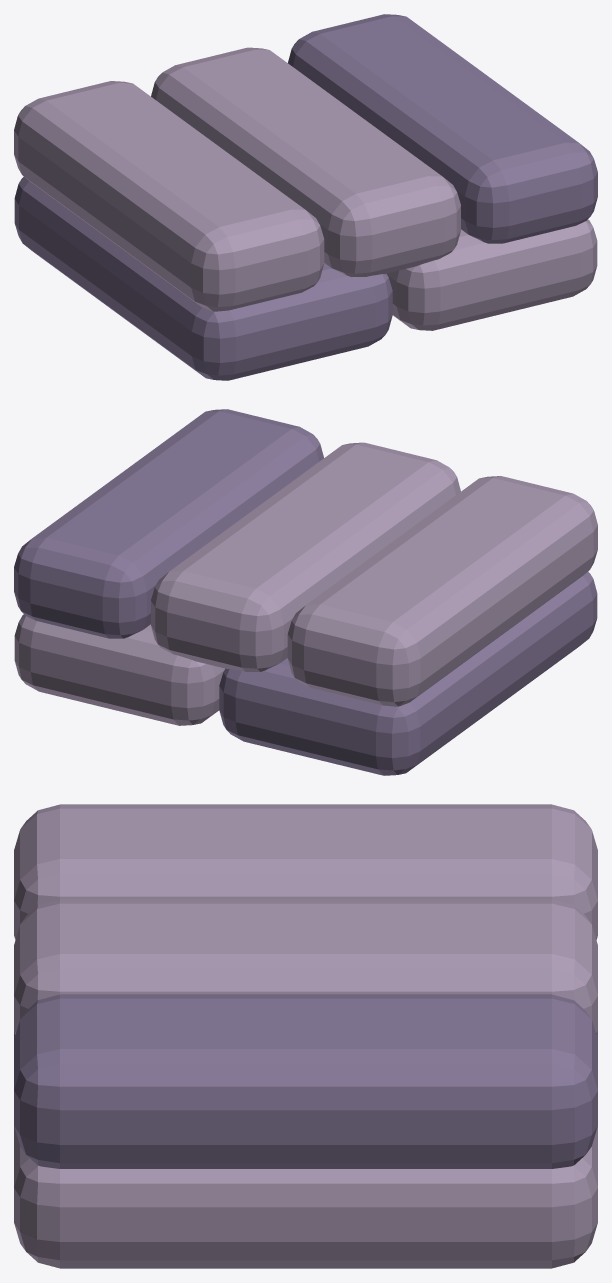
File: inferno_wall.glb
3 renders of one model, top to bottom at view 1: azimuth 30°, elevation 25°; view 2: azimuth 150°, elevation 25°; view 3: azimuth 270°, elevation 25°, orthographic. The views are drawn at different scales.
Visible parts, largest first — view 1: Batched V2 inferno stone_light, Batched V2 inferno stone; view 2: Batched V2 inferno stone_light, Batched V2 inferno stone; view 3: Batched V2 inferno stone_light, Batched V2 inferno stone.
Boxes of the visible parts, x1,y1,x2,y2 form: Batched V2 inferno stone_light: [14, 47, 597, 330]; Batched V2 inferno stone: [14, 14, 597, 380]; Batched V2 inferno stone_light: [14, 442, 597, 725]; Batched V2 inferno stone: [14, 409, 597, 775]; Batched V2 inferno stone_light: [14, 804, 597, 1268]; Batched V2 inferno stone: [14, 994, 597, 1168].
Bounding box in the file's own units: 1.72 × 0.62 × 1.52.
